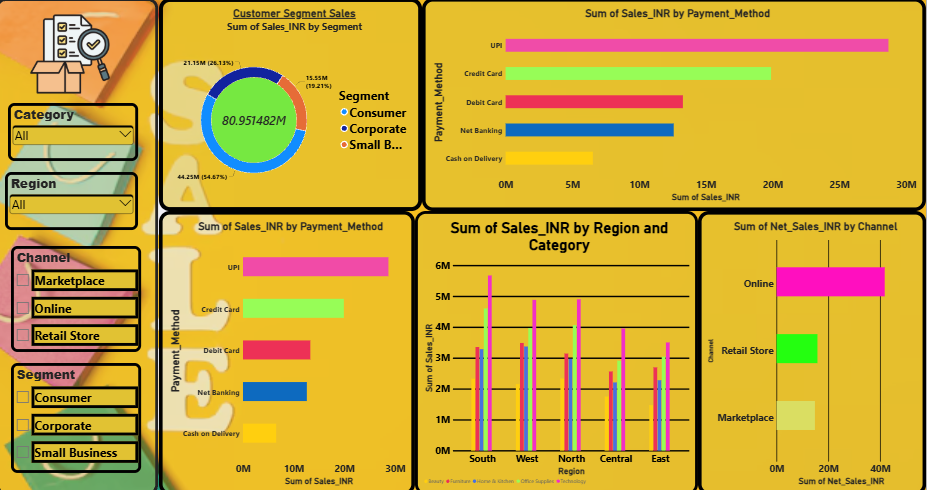

Layout of this report page (visuals, bound fields, positions):
{"tool":"powerbi","page":{"name":"3 CUSTOMER AND OPEERATIONS ANALYSIS","canvas":[2702,1378],"ordinal":3},"visuals":[{"type":"donutChart","title":"Customer Segment Sales","fields":{"Category":["sales_data.Segment"],"Y":["Sum(sales_data.Sales_INR)"]},"box":[450.3,778.6,1101.1,598.5],"z":0},{"type":"clusteredBarChart","fields":{"Category":["sales_data.Channel"],"Y":["Sum(sales_data.Net_Sales_INR)"]},"box":[1937.9,0,764.1,778.6],"z":1000},{"type":"columnChart","fields":{"Category":["sales_data.Category"],"Y":["CountNonNull(sales_data.Region)"]},"box":[1179.6,0,758.3,778.6],"z":2000},{"type":"shape","box":[0,0,450,1377.8],"z":2001},{"type":"barChart","fields":{"Category":["sales_data.Payment_Method"],"Y":["Sum(sales_data.Sales_INR)"]},"box":[1560.2,775.7,1141.8,598.5],"z":2002},{"type":"barChart","fields":{"Category":["sales_data.Payment_Method"],"Y":["Sum(sales_data.Sales_INR)"]},"box":[450.3,0,732.2,778.6],"z":2003}]}

Visuals, with their boxes on the page's 2702x1378 design canvas (x1, y1, x2, y2). These are canvas units, not pixel positions in the 927x490 screenshot, which may show the page scaled, cropped or inside an application window:
"Customer Segment Sales" donutChart: <bbox>450, 779, 1551, 1377</bbox>
clusteredBarChart - sales_data.Channel x Sum(sales_data.Net_Sales_INR): <bbox>1938, 0, 2702, 779</bbox>
columnChart - sales_data.Category x CountNonNull(sales_data.Region): <bbox>1180, 0, 1938, 779</bbox>
shape: <bbox>0, 0, 450, 1378</bbox>
barChart - sales_data.Payment_Method x Sum(sales_data.Sales_INR): <bbox>1560, 776, 2702, 1374</bbox>
barChart - sales_data.Payment_Method x Sum(sales_data.Sales_INR): <bbox>450, 0, 1182, 779</bbox>
